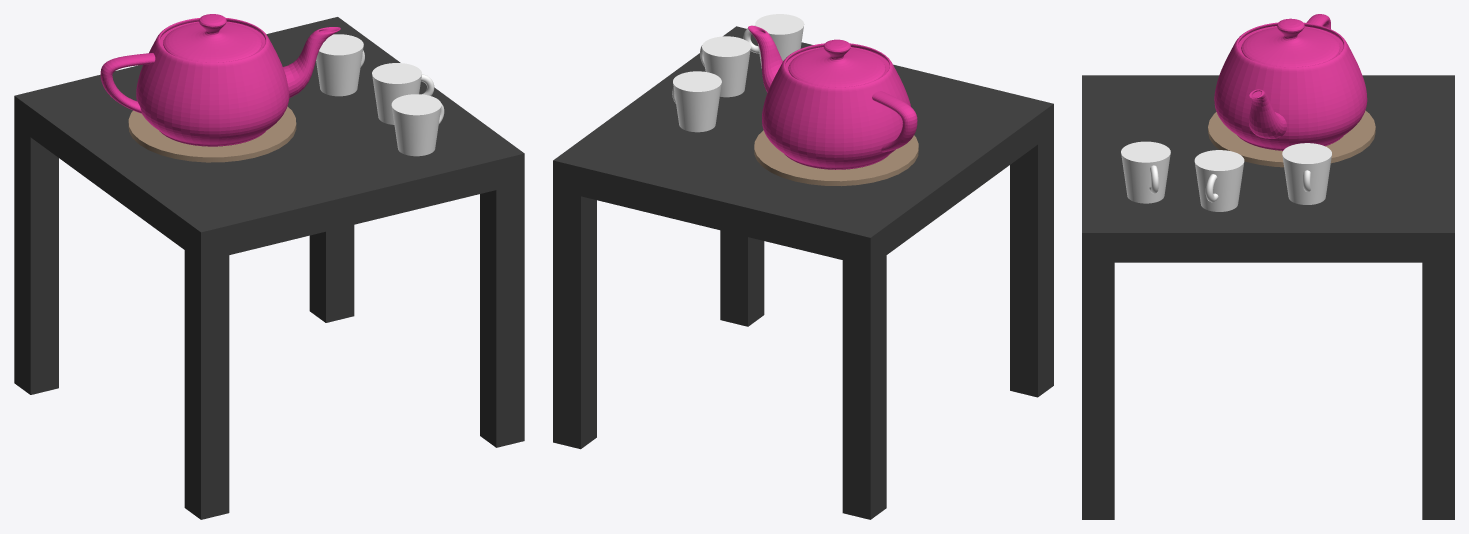
File: teapotTable.gltf
3 renders of one model, left to right at view 1: azimuth 30°, elevation 25°; view 2: azimuth 150°, elevation 25°; view 3: azimuth 270°, elevation 25°, orthographic.
Visible parts, largest first — view 1: tableTop, teapot, Leg2, Leg1, Leg3, cup (×3), Leg4, trivet; view 2: tableTop, teapot, Leg3, Leg4, Leg2, cup (×3), Leg1, trivet; view 3: tableTop, teapot, Leg1, Leg4, cup (×3), trivet.
Boxes of the visible parts, x1,y1,x2,y2 form: tableTop: [14, 17, 524, 261]; teapot: [100, 14, 340, 146]; Leg2: [184, 246, 229, 519]; Leg1: [480, 178, 524, 447]; Leg3: [14, 122, 58, 394]; cup (×3): [316, 34, 441, 156]; Leg4: [309, 225, 354, 322]; trivet: [128, 106, 296, 162]; tableTop: [553, 26, 1053, 266]; teapot: [748, 25, 917, 169]; Leg3: [842, 251, 886, 519]; Leg4: [553, 185, 596, 449]; Leg2: [1010, 128, 1053, 397]; cup (×3): [673, 14, 804, 132]; Leg1: [720, 230, 764, 326]; trivet: [754, 130, 918, 186]; tableTop: [1082, 75, 1454, 262]; teapot: [1214, 14, 1367, 150]; Leg1: [1082, 258, 1114, 519]; Leg4: [1422, 258, 1454, 519]; cup (×3): [1121, 141, 1331, 211]; trivet: [1208, 110, 1375, 167].
Bounding box in the file's own units: 20 × 23.46 × 20.
